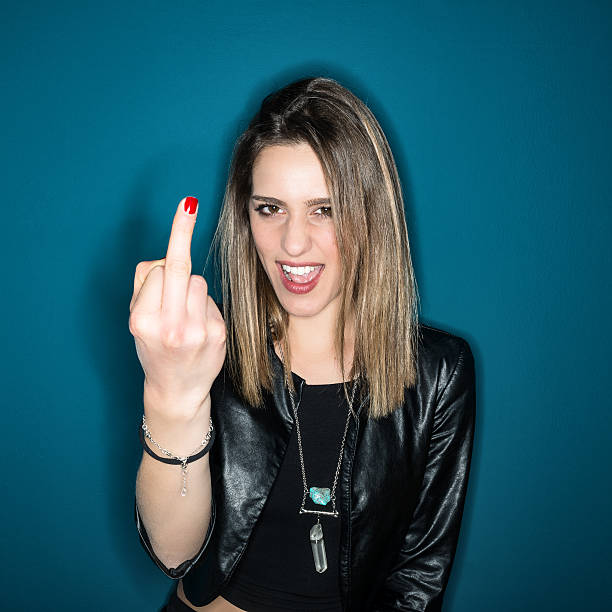insulting_gesture: (126, 191, 223, 405)
